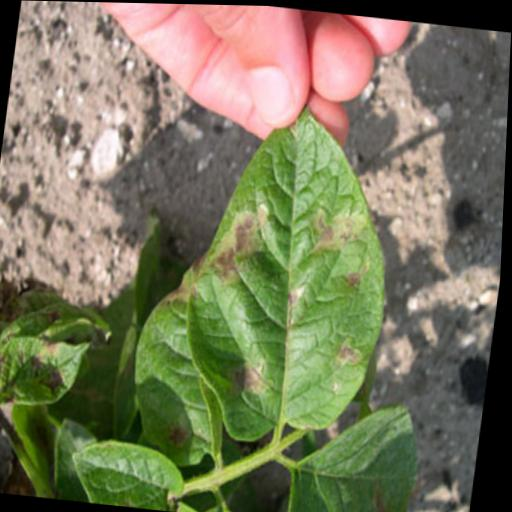Late Blight: (170, 98, 412, 460)
